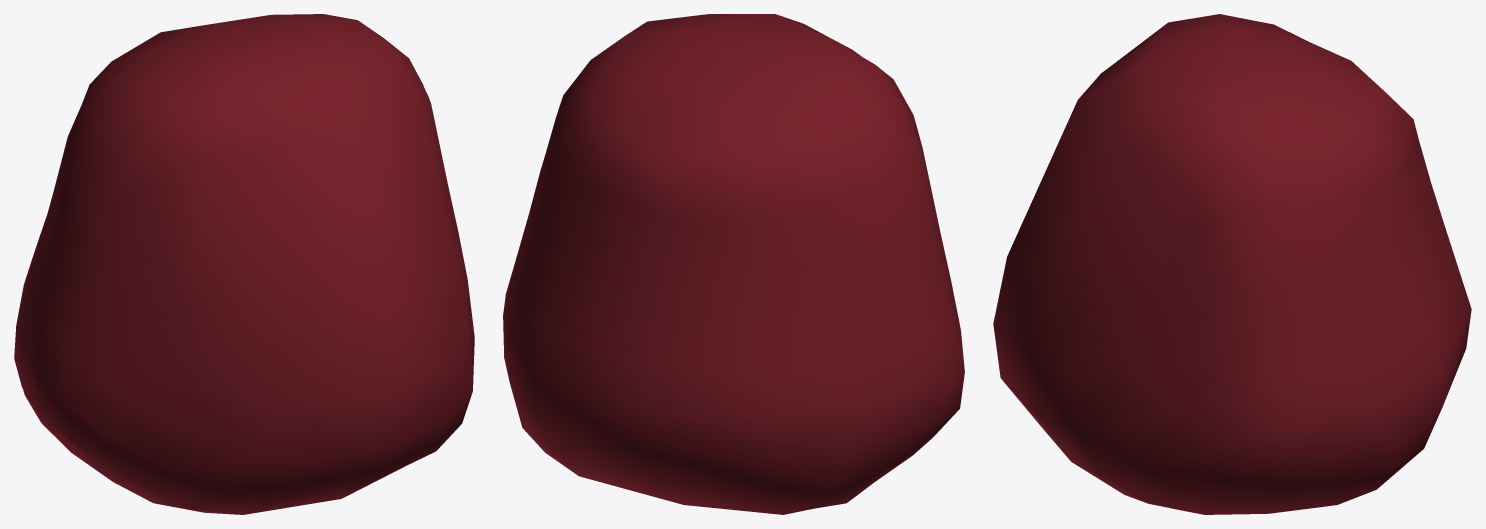
The model's file is Demon_Flying.fbx.
3 views of the same model, side by side, from view 1: azimuth 30°, elevation 25°; view 2: azimuth 150°, elevation 25°; view 3: azimuth 270°, elevation 25° (orthographic). The views are drawn at different scales.
Parts seen in each view (by area): view 1: Demon_Flying; view 2: Demon_Flying; view 3: Demon_Flying.
Boxes of the visible parts, x1,y1,x2,y2 form: Demon_Flying: [14, 14, 474, 514]; Demon_Flying: [503, 14, 964, 514]; Demon_Flying: [993, 14, 1471, 514].
Size of the model in its own units: 91.06 by 90.38 by 91.18.
